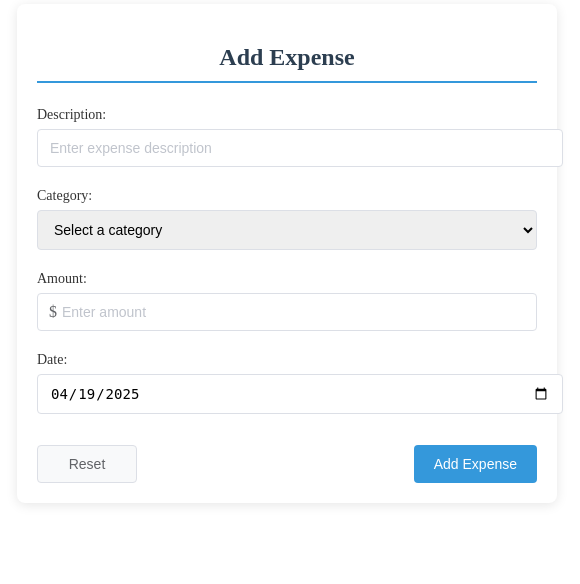
Test: ExpenseForm.vue › displays generic error message when server returns non-validation error
The image size is (580, 584).
Note: Fill and submit form
In the field with placeholder "Enter expense description": [300, 148] box 37,129 -> 563,167, type "Test"
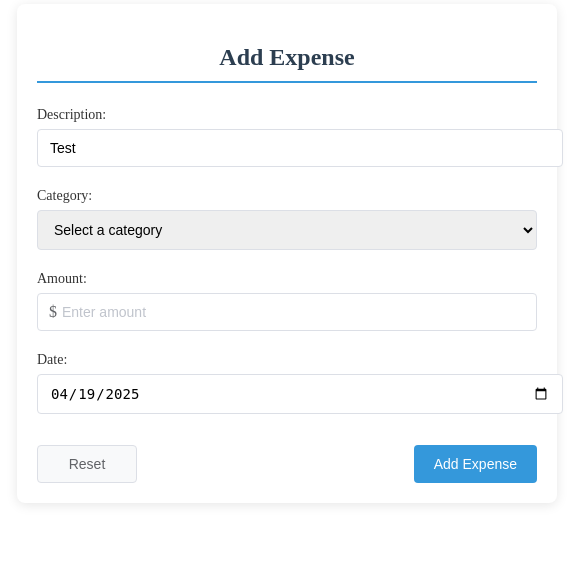
Select "Food" in the dropdown labelled "Category:": [287, 230] box 37,210 -> 537,250
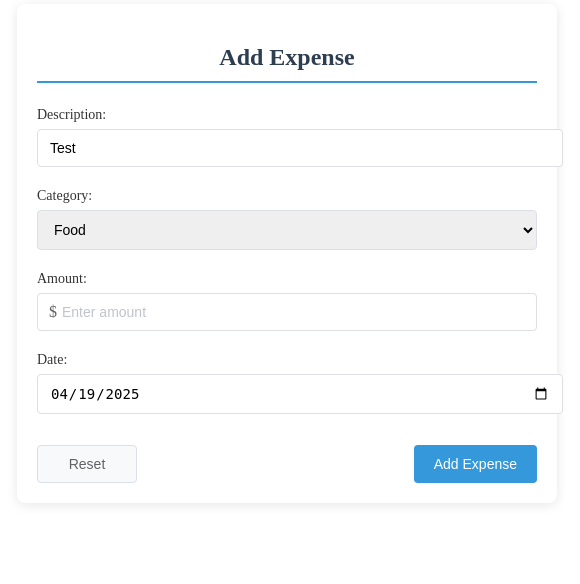
In the number field labelled "Amount:": [287, 312] box 37,293 -> 537,331, type "50"
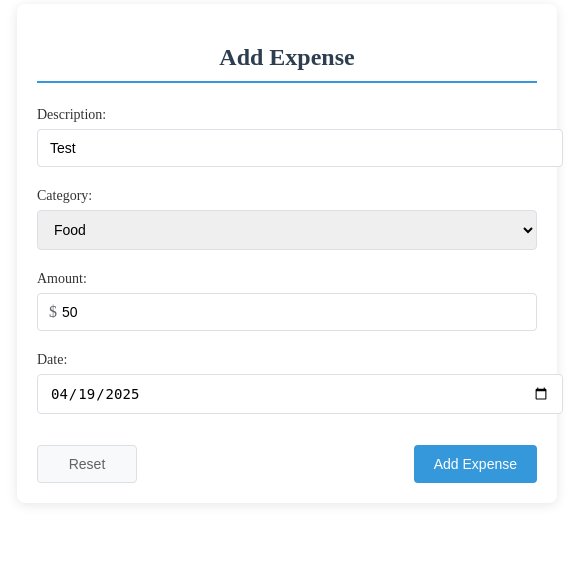
In the date field labelled "Date:": [300, 394] box 37,374 -> 563,414, type "2025-04-09"
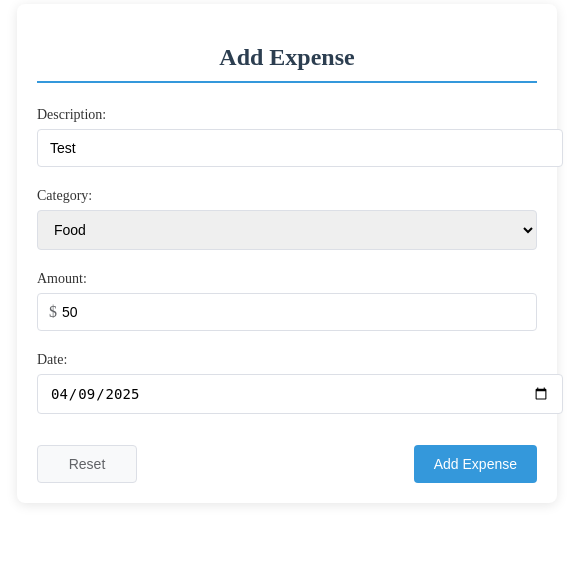
Submit the form, box 37,107 -> 537,483
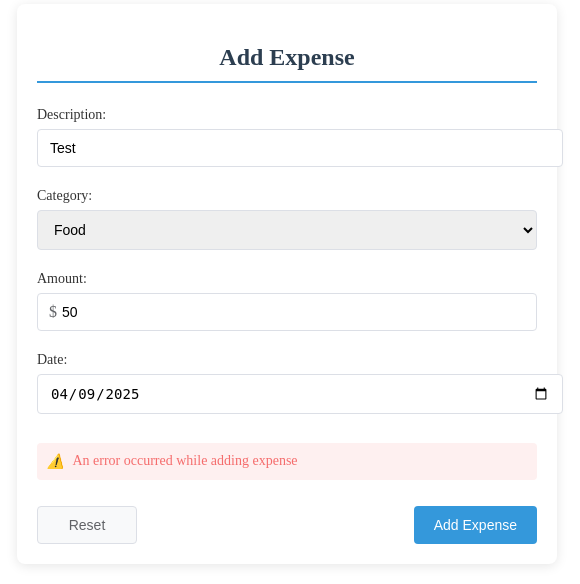
Check: the element with class "error-message" is shown, box 37,443 -> 537,480
Check: the element with class "error-message" shows "An error occurred while adding expense", box 72,453 -> 298,468
